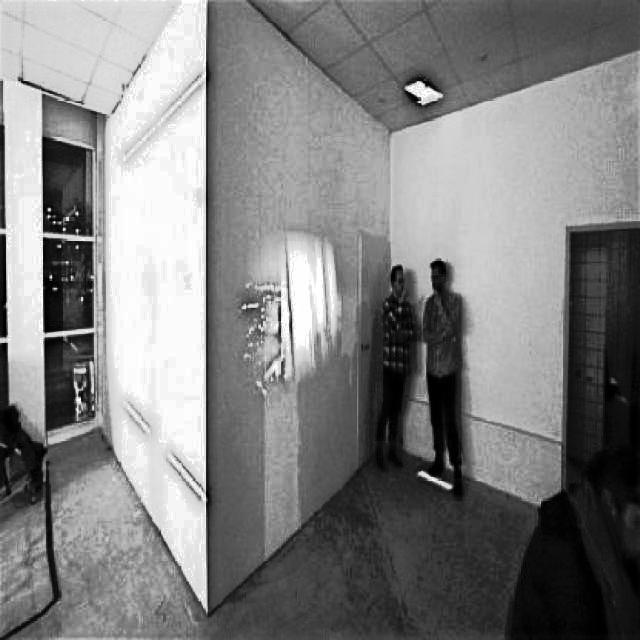Person: (423, 255, 468, 503), (372, 260, 415, 469)
